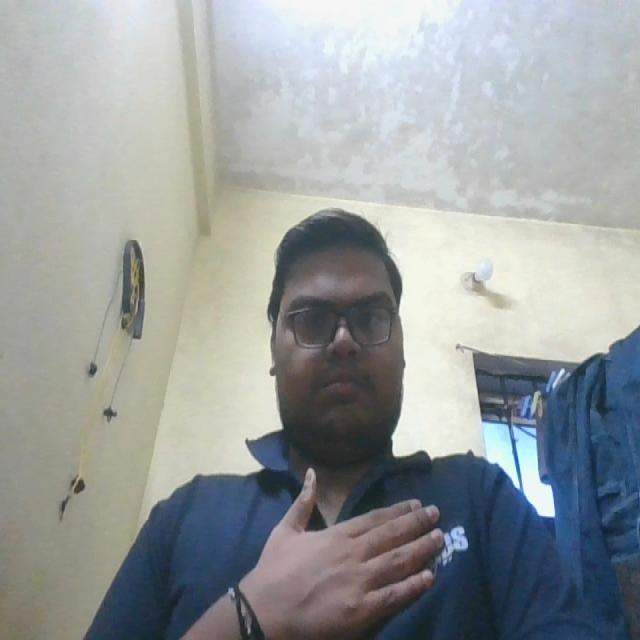Please: (253, 460, 455, 640)
